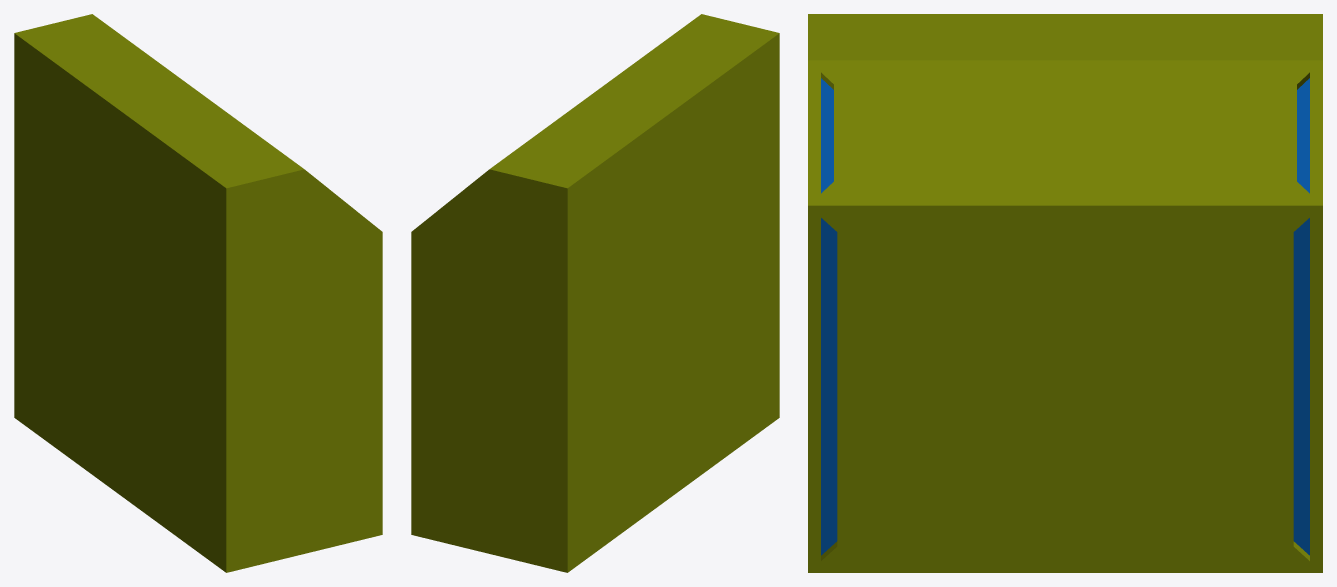
Rendered from Healthkit.fbx.
The picture shows the model from 3 angles, left to right: view 1: azimuth 30°, elevation 25°; view 2: azimuth 150°, elevation 25°; view 3: azimuth 270°, elevation 25°; orthographic projection. The views are drawn at different scales.
Visible parts, largest first — view 1: pCube1; view 2: pCube1; view 3: pCube1.
Boxes of the visible parts, x1=… form: pCube1: x1=14, y1=14, x2=382, y2=572; pCube1: x1=411, y1=14, x2=779, y2=572; pCube1: x1=808, y1=14, x2=1322, y2=572.
Size of the model in its own units: 6.79 by 15.97 by 15.97.
